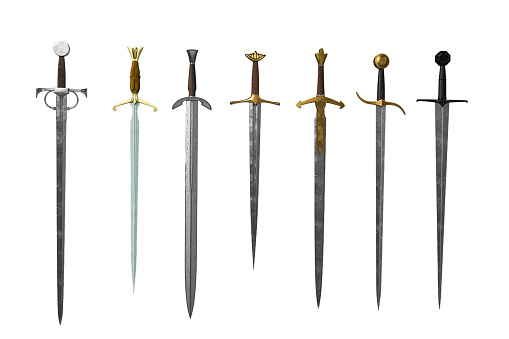knife: (33, 36, 90, 330), (294, 46, 347, 308), (416, 49, 467, 311), (167, 46, 214, 317), (355, 43, 399, 314), (110, 46, 158, 292), (230, 50, 282, 271)
